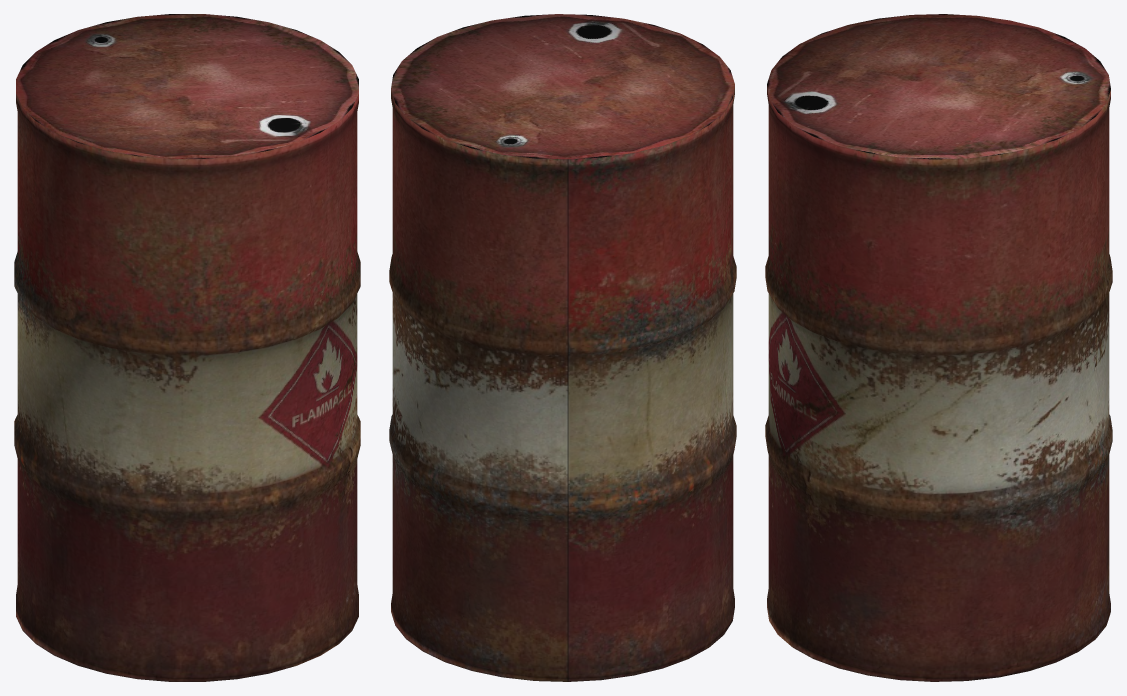
The model's file is explosive_drum.fbx.
3 renders of one model, left to right at view 1: azimuth 30°, elevation 25°; view 2: azimuth 150°, elevation 25°; view 3: azimuth 270°, elevation 25°, orthographic.
Visible parts, largest first — view 1: oildrum:Mesh; view 2: oildrum:Mesh; view 3: oildrum:Mesh.
Part boxes in pixels (box(x1,y1,x2,y2)): oildrum:Mesh: box(14, 14, 360, 681); oildrum:Mesh: box(389, 14, 736, 681); oildrum:Mesh: box(765, 14, 1112, 681).
Bounding box in the file's own units: 0.6966 × 1.16 × 0.6966.
1 material, 1 textured.
